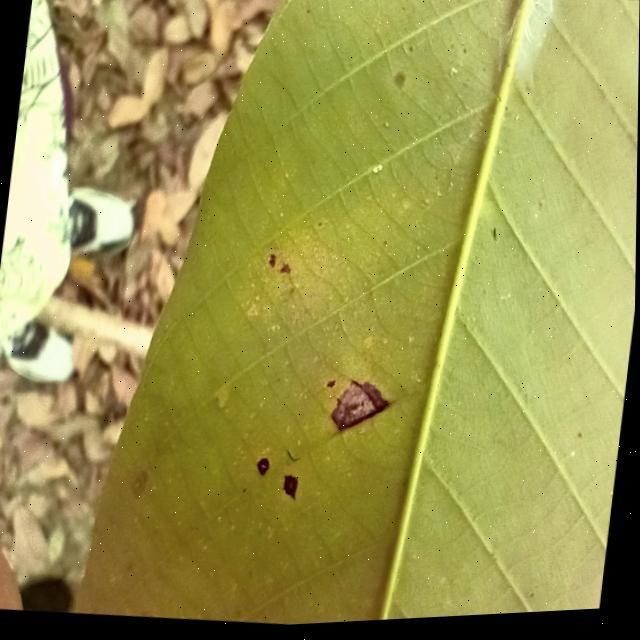Colletotrichum: (283, 476, 301, 502), (257, 459, 271, 478)
